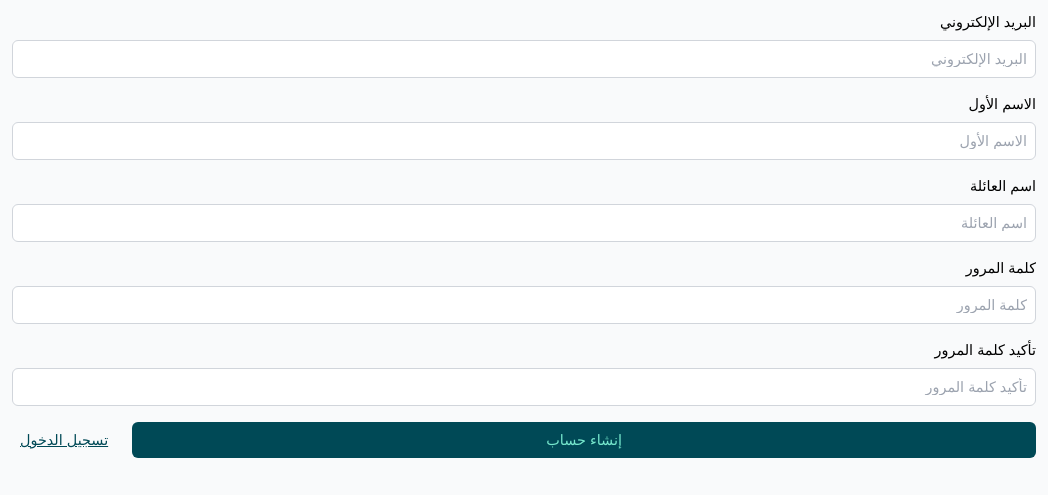
Test case: SignUpForm › validates password match
In the password field with placeholder "كلمة المرور": [524, 305] box 12,286 -> 1036,324, type "password123"
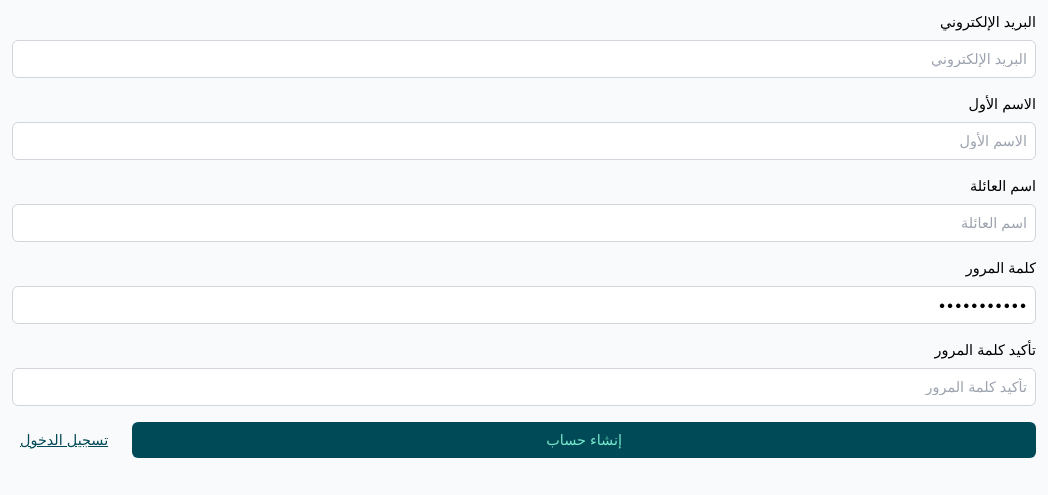
In the password field with placeholder "تأكيد كلمة المرور": [524, 387] box 12,368 -> 1036,406, type "password456"
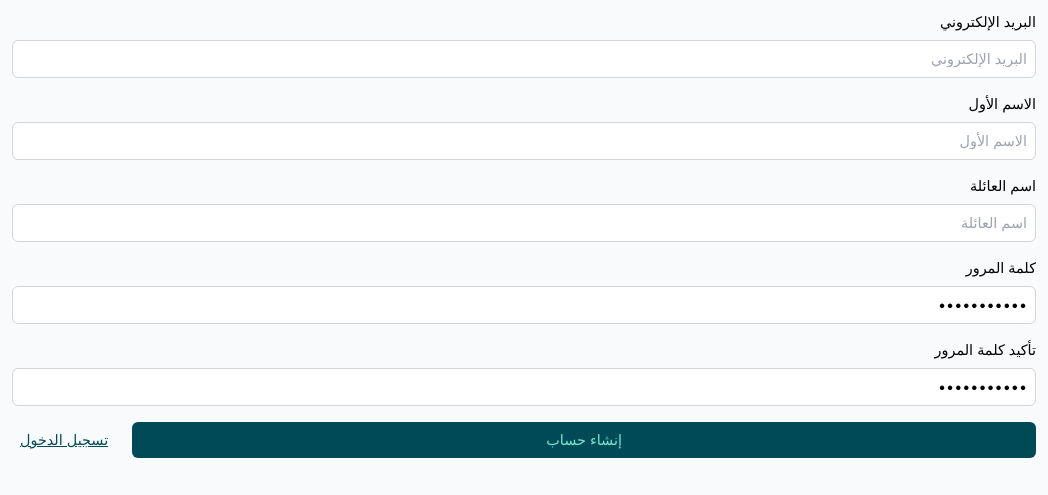
Leave the password field with placeholder "تأكيد كلمة المرور", box 12,368 -> 1036,406
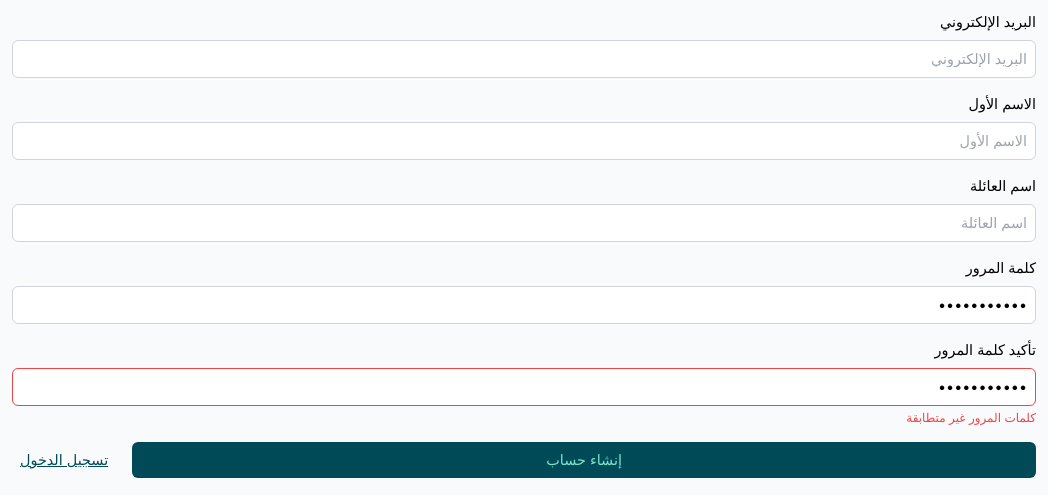
Now the text "كلمات المرور غير متطابقة" is shown, box 906,410 -> 1036,425
